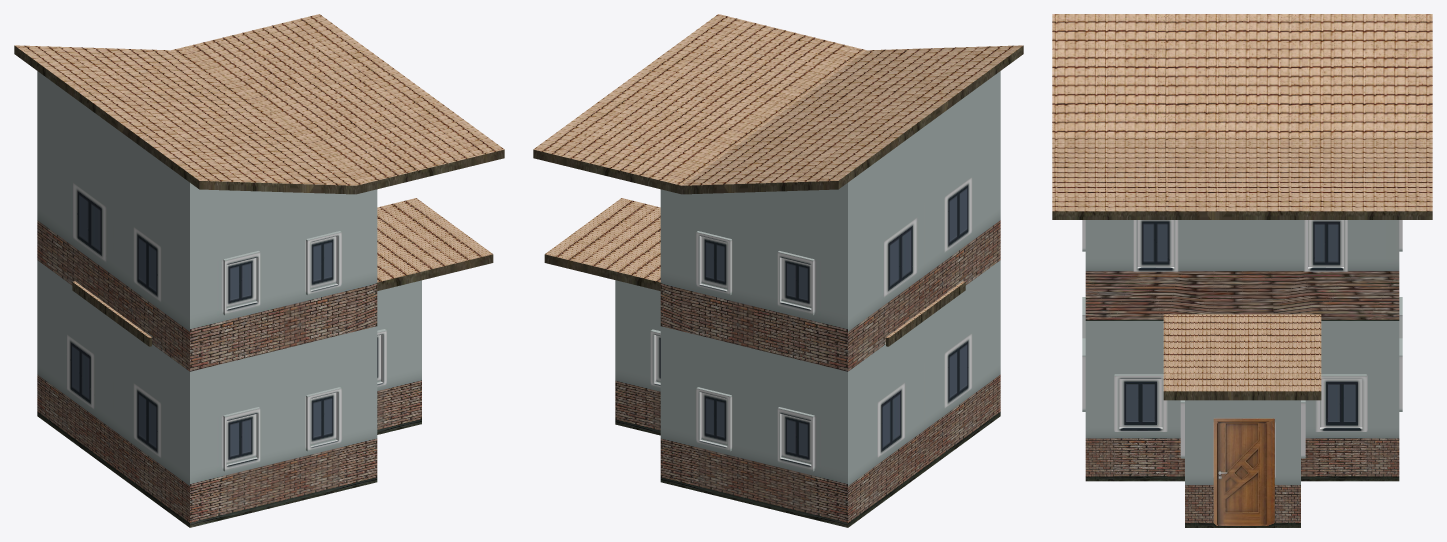
Rendered from House_with_Texture3.fbx.
3 renders of one model, left to right at view 1: azimuth 30°, elevation 25°; view 2: azimuth 150°, elevation 25°; view 3: azimuth 270°, elevation 25°, orthographic. The views are drawn at different scales.
Parts seen in each view (by area): view 1: _01; view 2: _01; view 3: _01.
Part boxes in pixels (x1=…): _01: x1=14, y1=14, x2=504, y2=527; _01: x1=533, y1=14, x2=1023, y2=527; _01: x1=1052, y1=14, x2=1432, y2=527.
Bounding box in the file's own units: 43.86 × 43.44 × 40.43.
